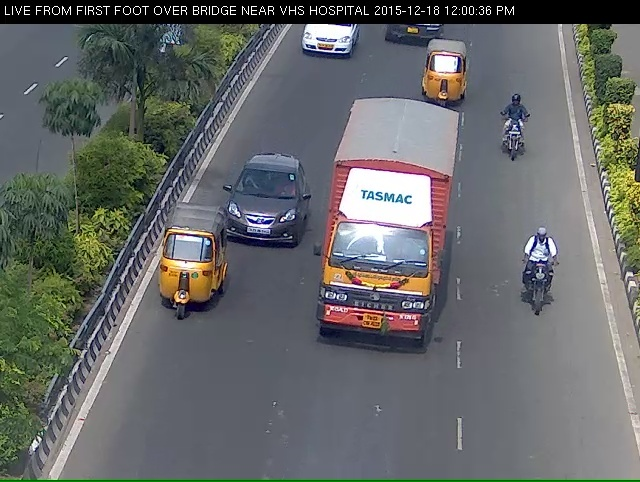Bus: (317, 106, 441, 371)
Car: (145, 218, 212, 338), (217, 172, 297, 268), (414, 48, 480, 117), (290, 25, 358, 65)
Person: (521, 240, 564, 344), (491, 102, 534, 174)
